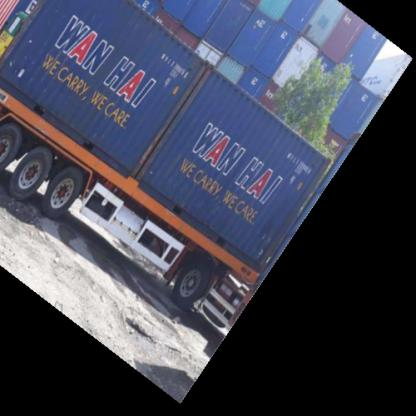Damage: (133, 57, 213, 175)
